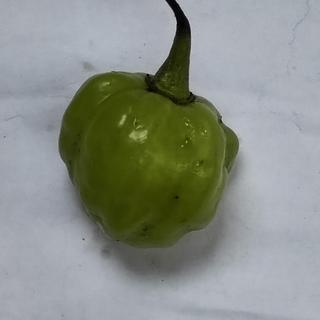Fly-bites: (171, 190, 186, 205)
